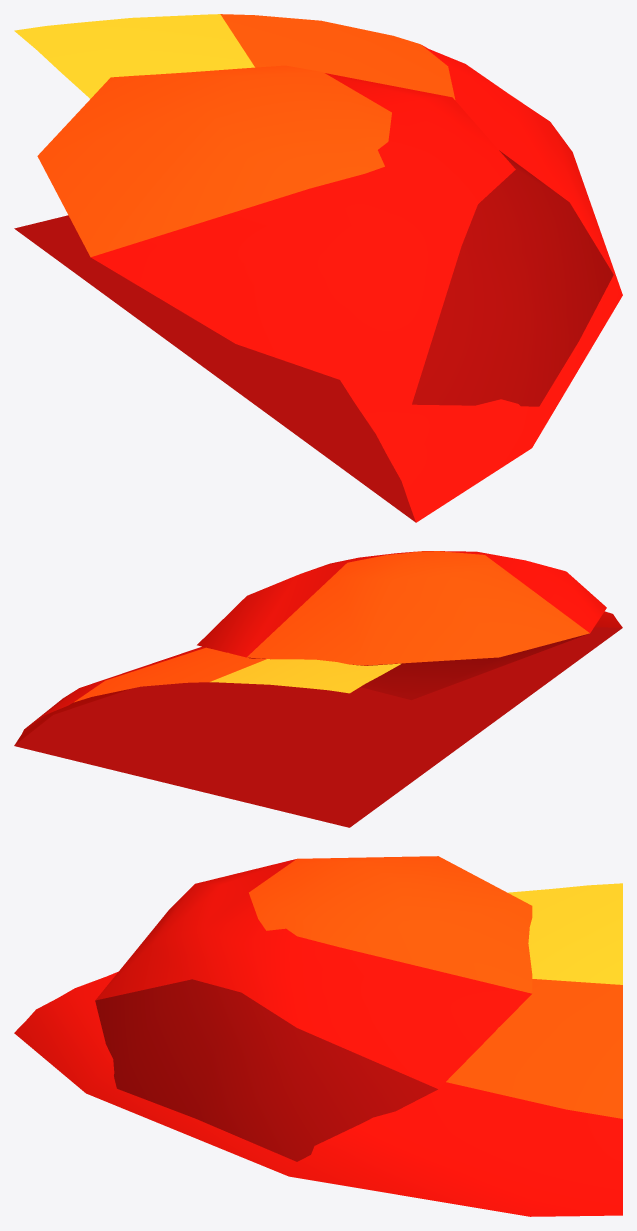
The model's file is shot_zflame_232.glb.
The picture shows the model from 3 angles, top to bottom: view 1: azimuth 30°, elevation 25°; view 2: azimuth 150°, elevation 25°; view 3: azimuth 270°, elevation 25°; orthographic projection. The views are drawn at different scales.
Parts seen in each view (by area): view 1: zflame_3_billow5_b232, zflame_3_bed_b232; view 2: zflame_3_bed_b232, zflame_3_billow5_b232; view 3: zflame_3_billow5_b232, zflame_3_bed_b232.
Part boxes in pixels (<box>): zflame_3_billow5_b232: <box>37,65,613,406</box>; zflame_3_bed_b232: <box>14,14,622,522</box>; zflame_3_bed_b232: <box>14,611,622,827</box>; zflame_3_billow5_b232: <box>197,551,606,700</box>; zflame_3_billow5_b232: <box>95,856,532,1161</box>; zflame_3_bed_b232: <box>14,883,622,1216</box>.
Size of the model in its own units: 7.68 by 2.75 by 8.41.
